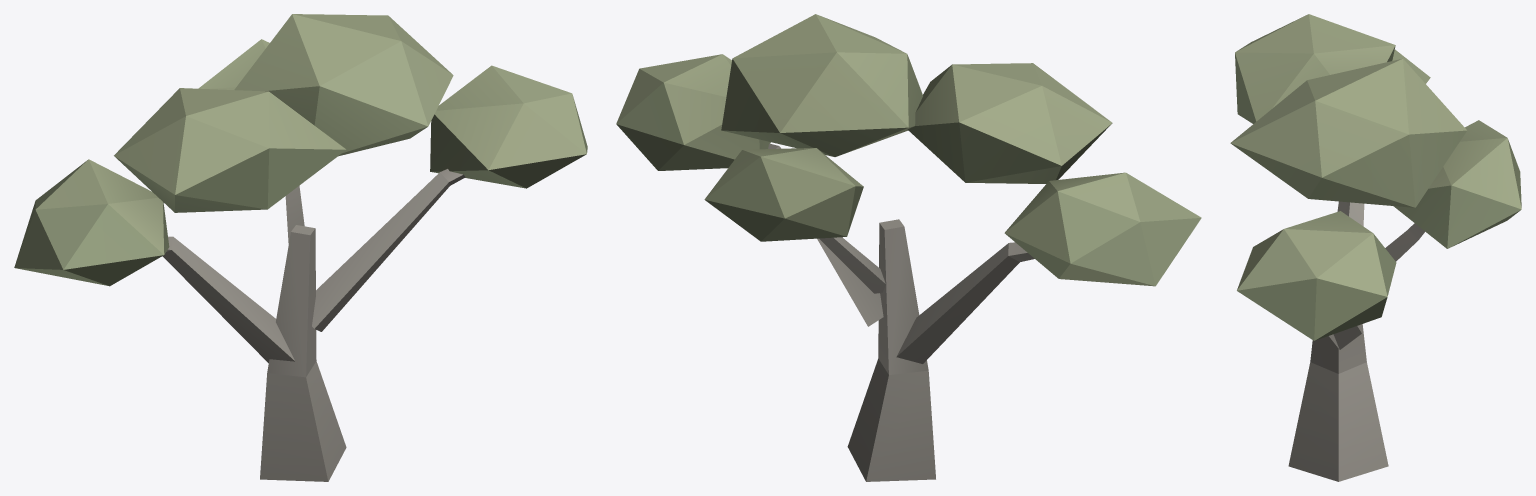
File: olive.lod2.glb
3 renders of one model, left to right at view 1: azimuth 30°, elevation 25°; view 2: azimuth 150°, elevation 25°; view 3: azimuth 270°, elevation 25°, orthographic. The views are drawn at different scales.
Size of the model in its own units: 5.75 by 4.29 by 2.68.
